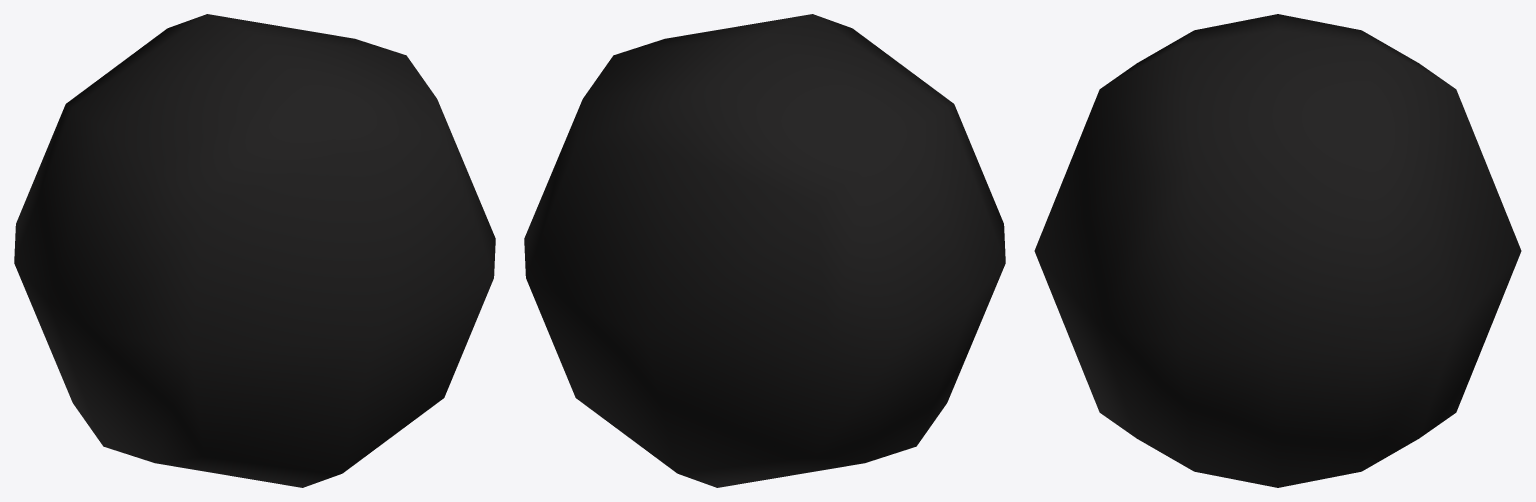
The model's file is Pepper_Bullet_CENTER.fbx.
3 renders of one model, left to right at view 1: azimuth 30°, elevation 25°; view 2: azimuth 150°, elevation 25°; view 3: azimuth 270°, elevation 25°, orthographic.
Visible parts, largest first — view 1: Pepper; view 2: Pepper; view 3: Pepper.
Boxes of the visible parts, left/top/right/bottom form: Pepper: left=14, top=14, right=495, bottom=487; Pepper: left=524, top=14, right=1005, bottom=487; Pepper: left=1034, top=14, right=1521, bottom=487.
Size of the model in its own units: 0.4466 by 0.4466 by 0.4466.
